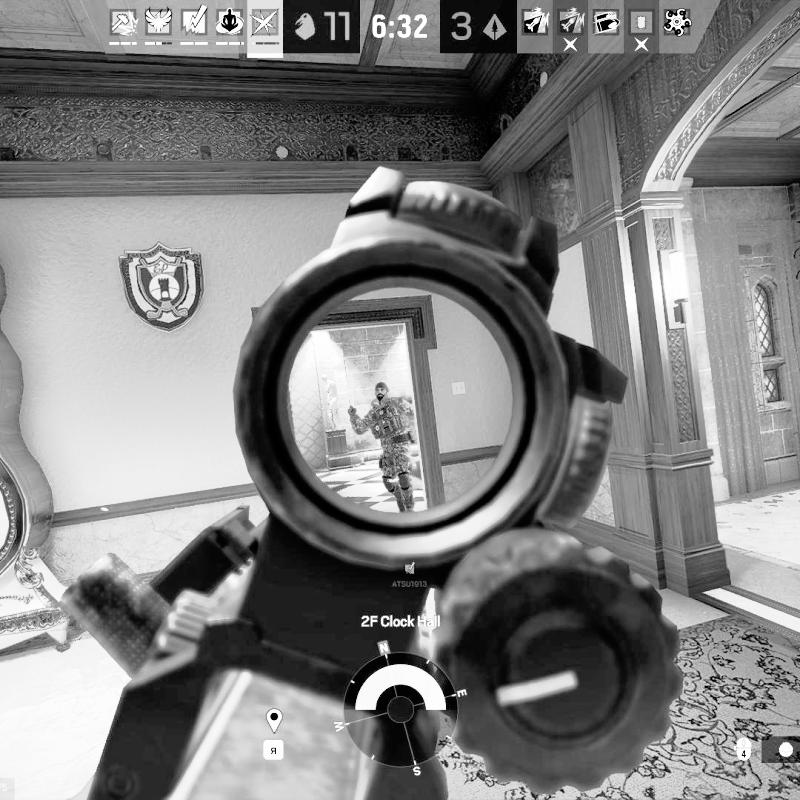Character: (360, 382, 426, 517)
Friend_label: (390, 558, 428, 589)
Head: (373, 382, 390, 404)
